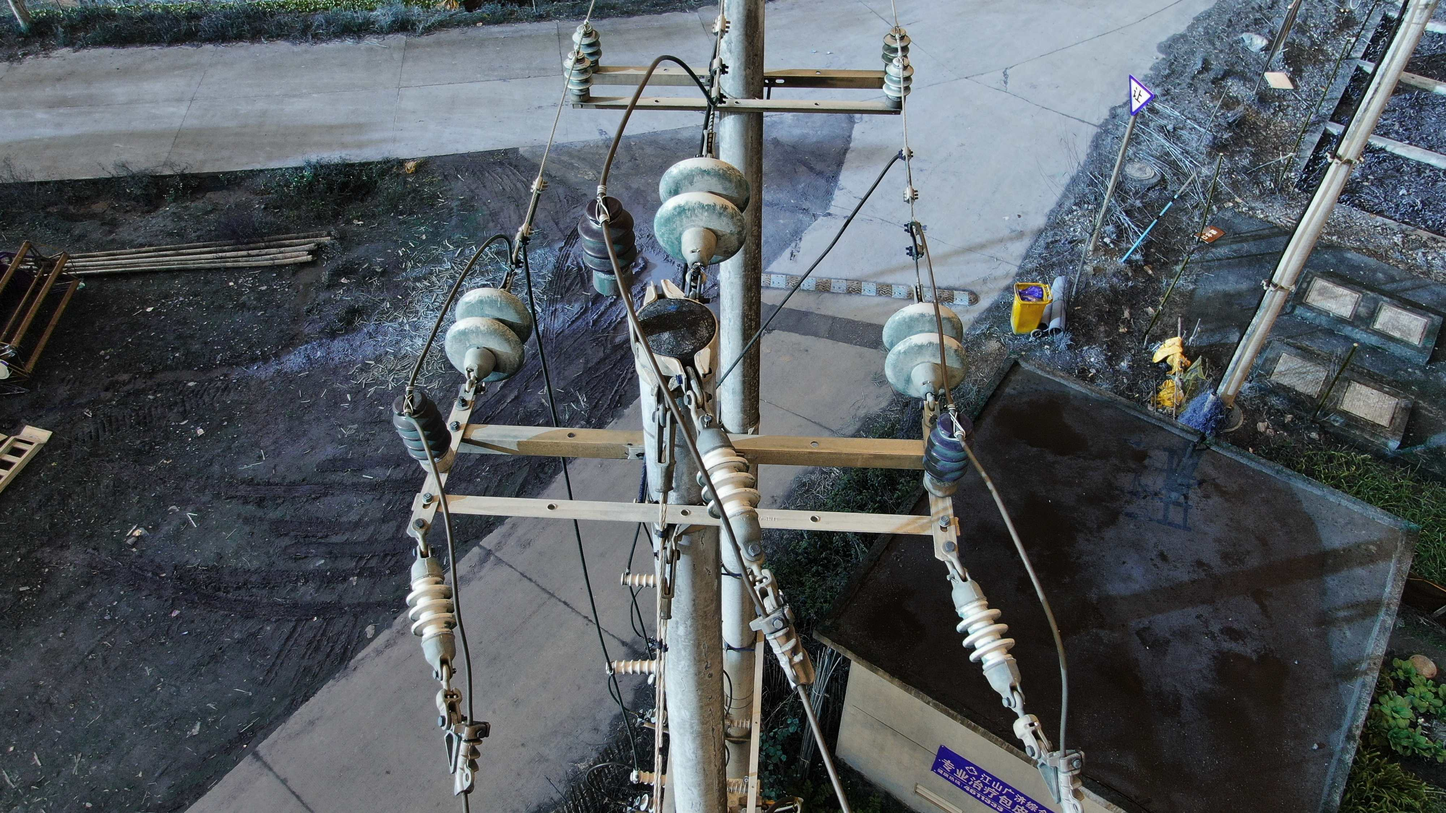severe_soiling_no_discharge_whole: (650, 151, 753, 270), (877, 298, 971, 404), (438, 288, 535, 387), (689, 426, 767, 547), (947, 578, 1024, 692), (572, 189, 642, 302), (400, 551, 462, 670), (389, 387, 458, 475), (916, 404, 975, 500), (560, 48, 596, 102), (880, 55, 915, 109), (879, 23, 913, 76), (570, 21, 603, 73), (603, 655, 658, 680), (619, 569, 659, 591)
